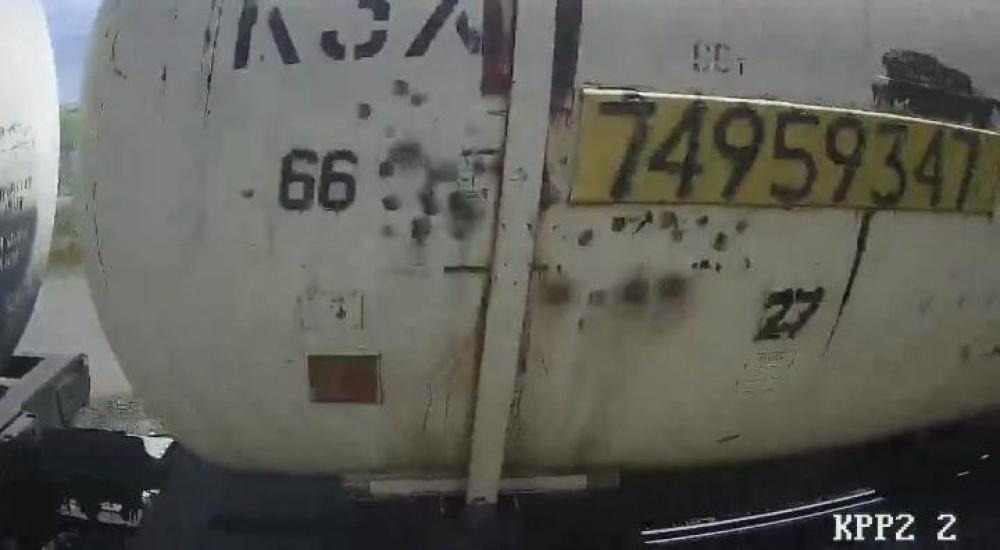Wagon-number: (591, 90, 983, 218)
